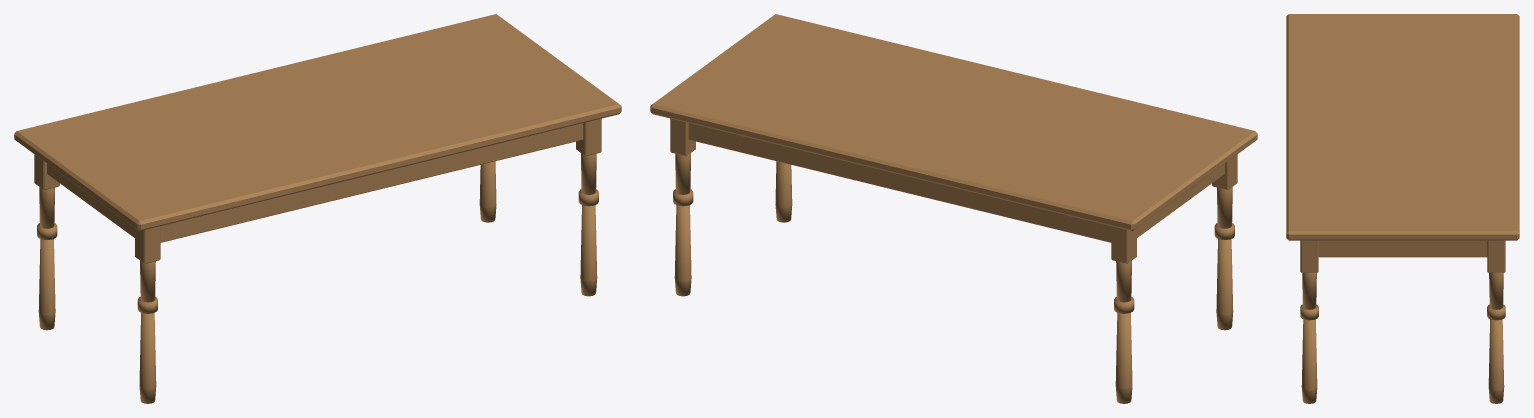
The model's file is MesaDeJantar.fbx.
3 renders of one model, left to right at view 1: azimuth 30°, elevation 25°; view 2: azimuth 150°, elevation 25°; view 3: azimuth 270°, elevation 25°, orthographic. The views are drawn at different scales.
Visible parts, largest first — view 1: MesaDeJantar; view 2: MesaDeJantar; view 3: MesaDeJantar.
Boxes of the visible parts, x1=… form: MesaDeJantar: x1=14, y1=14, x2=621, y2=403; MesaDeJantar: x1=650, y1=14, x2=1257, y2=403; MesaDeJantar: x1=1286, y1=14, x2=1519, y2=403.
Bounding box in the file's own units: 2 × 0.76 × 0.9.
